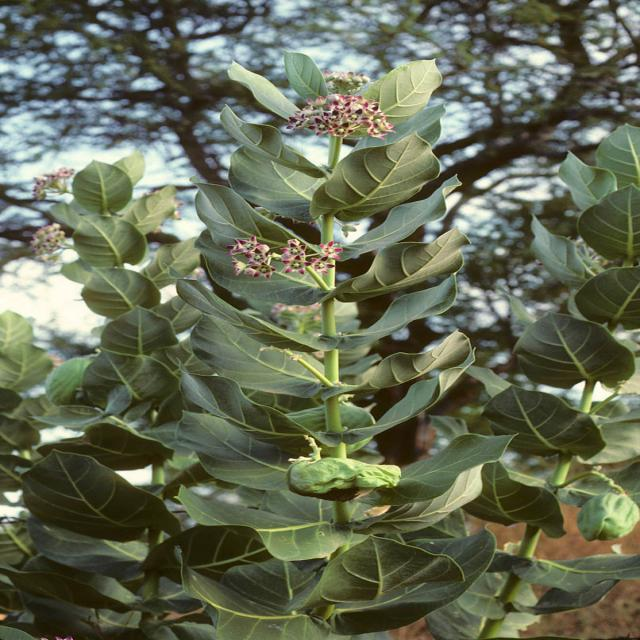Poisonous-Calatropis: (210, 64, 480, 610), (20, 156, 217, 564)
